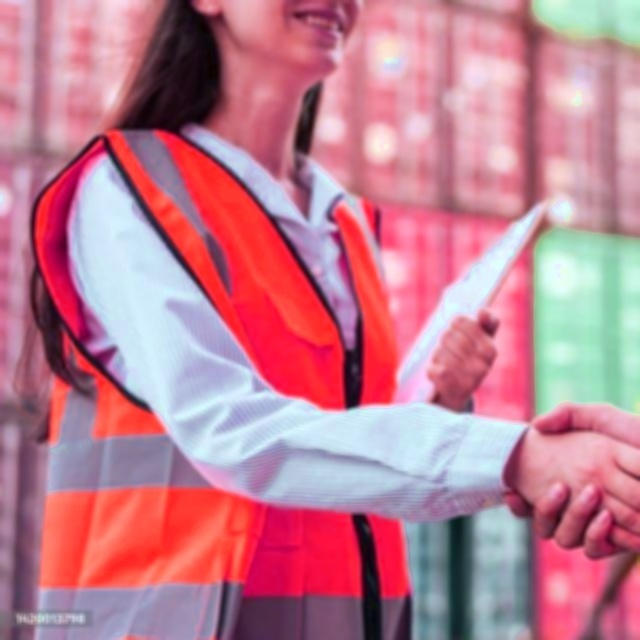Con_Chaleco: (12, 133, 409, 640)
